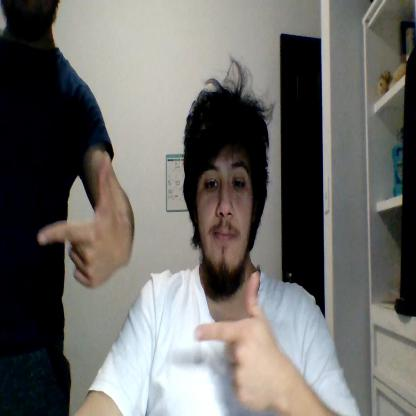G: (193, 271, 274, 411), (38, 155, 121, 290)
